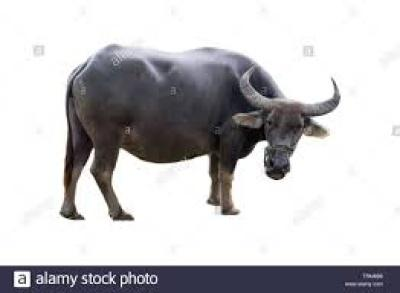buffalo: (60, 44, 340, 220)
